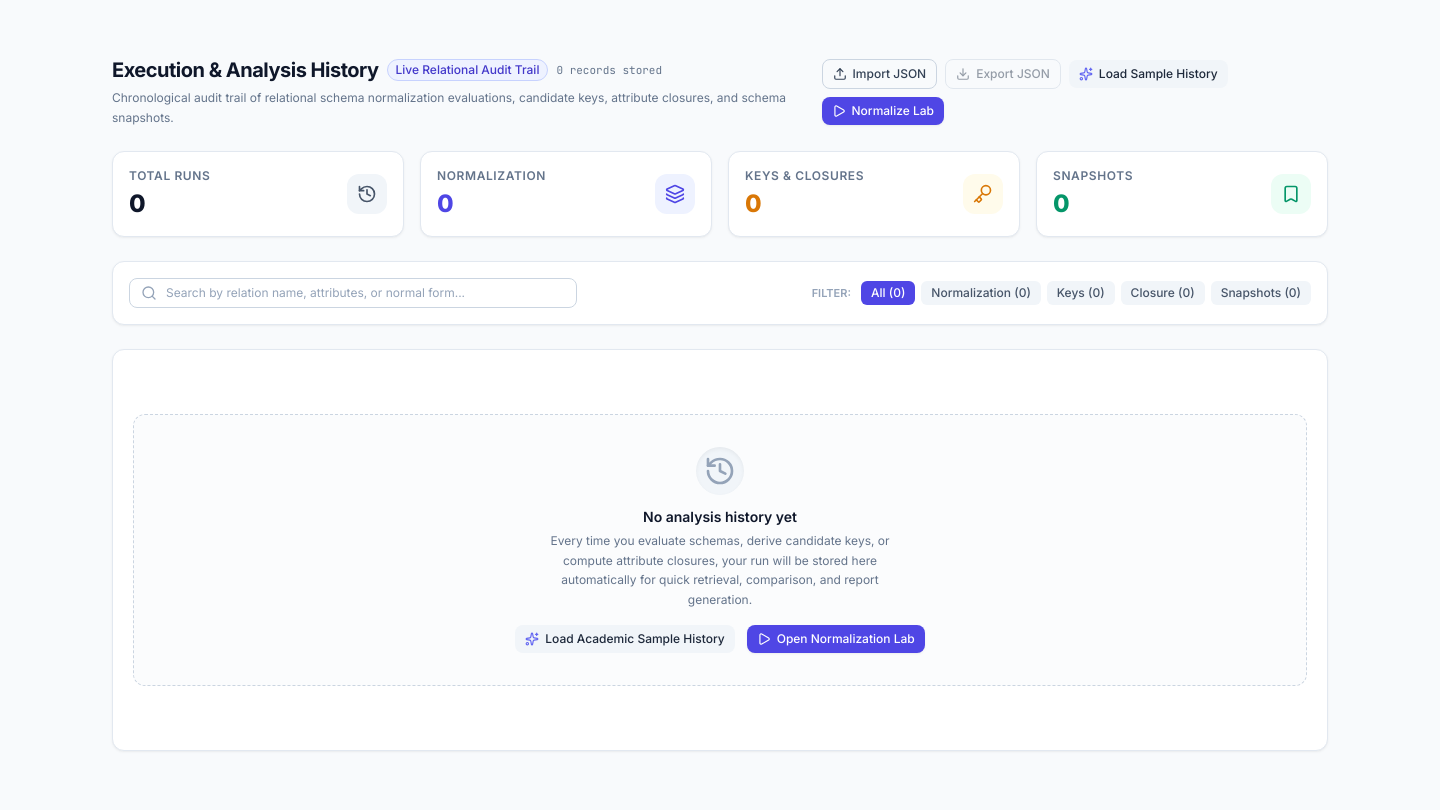
Test: Execution & Analysis History › loads academic sample history when button is clicked
This screenshot has width=1440, height=810.
What coordinates should you click on to do the following:
click the button "Load Academic Sample History"
I would click on:
 (625, 639)
Its box is [515, 625, 735, 653].
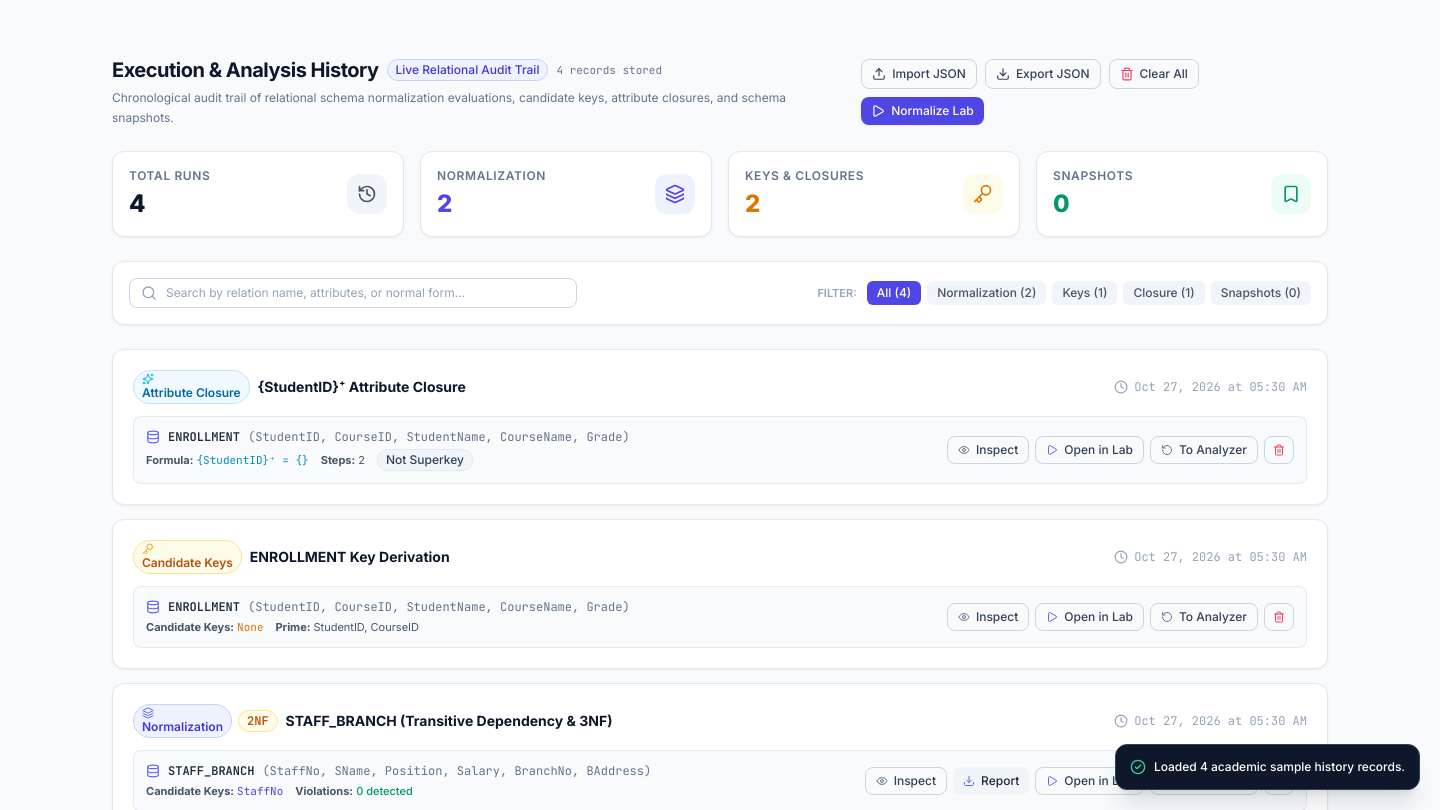
Check: the text "ENROLLMENT" below "{StudentID}⁺ Attribute Closure" is shown, box [168, 429, 240, 445]
Check: the text "STAFF_BRANCH (Transitive Dependency & 3NF)" is shown, box [286, 711, 612, 731]
